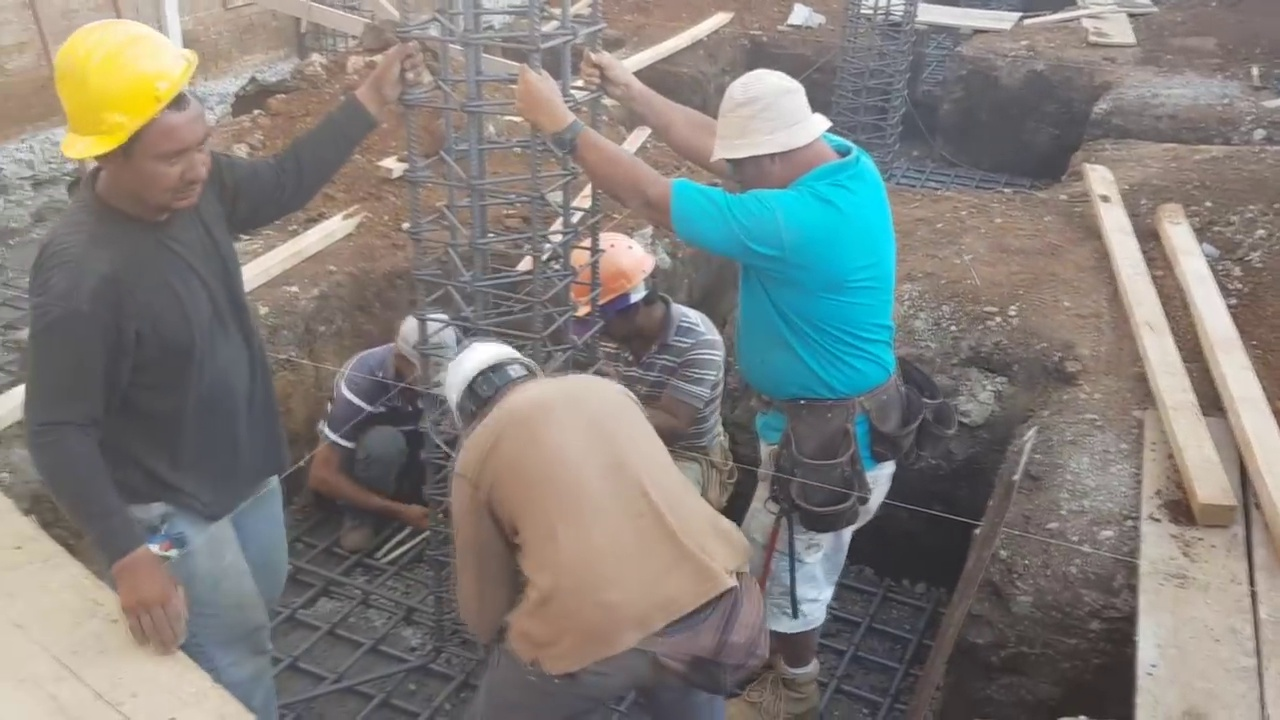helmet: (40, 10, 201, 162), (445, 337, 530, 433), (565, 228, 647, 324)
helmet-off: (709, 69, 840, 197), (386, 314, 454, 379)
helmet-on: (44, 11, 202, 221), (565, 222, 678, 364), (448, 329, 555, 439)
person: (17, 0, 430, 705), (522, 52, 901, 711), (459, 319, 770, 698), (568, 222, 747, 520), (320, 309, 451, 573)
